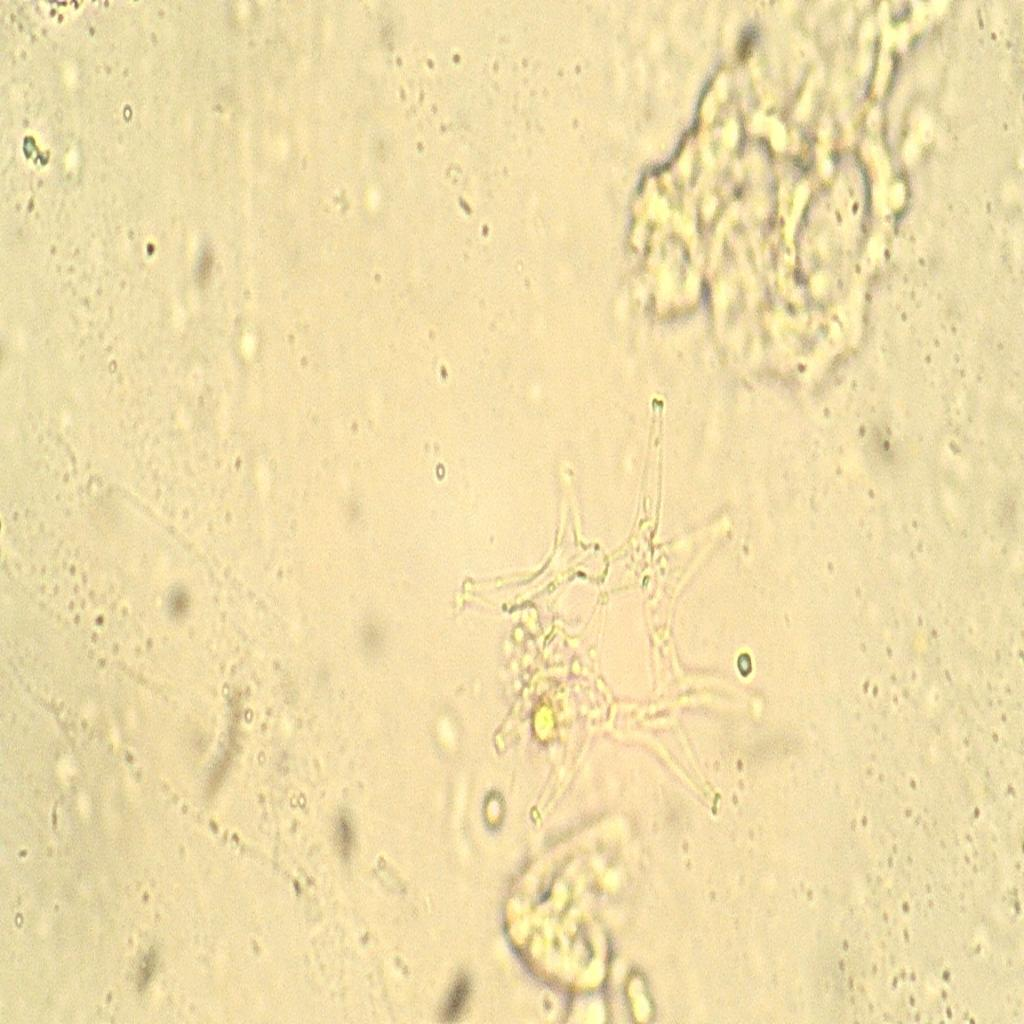Pediastrum_75TH: (429, 380, 807, 860)
